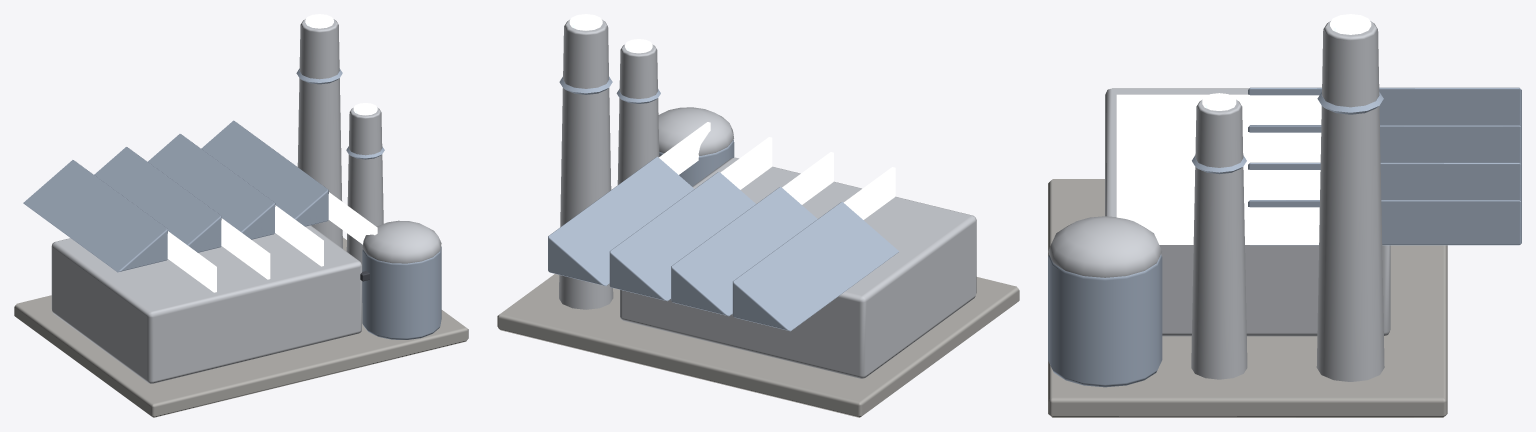
File: factory.glb
3 renders of one model, left to right at view 1: azimuth 30°, elevation 25°; view 2: azimuth 150°, elevation 25°; view 3: azimuth 270°, elevation 25°, orthographic. The views are drawn at different scales.
Visible parts, largest first — view 1: factory; view 2: factory; view 3: factory.
Part boxes in pixels (left/top/right/bottom): factory: left=14, top=14, right=468, bottom=417; factory: left=497, top=14, right=1019, bottom=417; factory: left=1048, top=14, right=1521, bottom=417.
Size of the model in its own units: 0.92 by 0.707 by 0.83.
